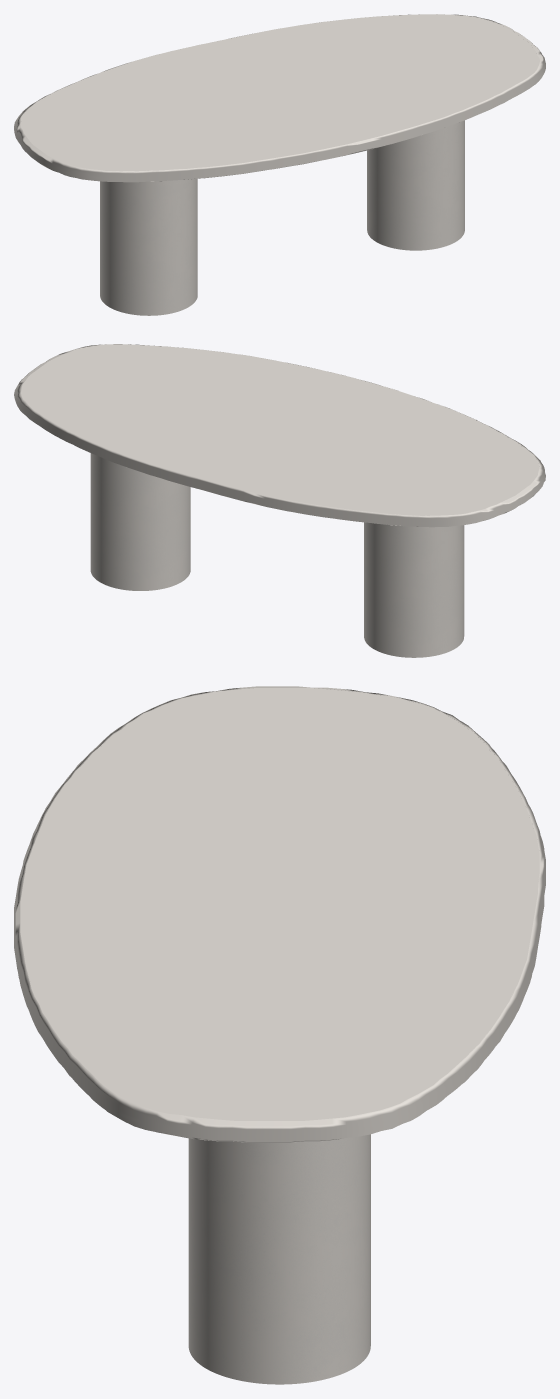
File: pearlwhite_danish_round_stream.glb
3 views of the same model, one above another, from view 1: azimuth 30°, elevation 25°; view 2: azimuth 150°, elevation 25°; view 3: azimuth 270°, elevation 25° (orthographic). The views are drawn at different scales.
Parts seen in each view (by area): view 1: round_danish, stream; view 2: round_danish, stream; view 3: round_danish, stream.
Boxes of the visible parts, bbox=[...] form: round_danish: bbox=[14, 14, 545, 182]; stream: bbox=[100, 120, 464, 315]; round_danish: bbox=[14, 344, 545, 527]; stream: bbox=[90, 453, 464, 657]; round_danish: bbox=[14, 686, 545, 1142]; stream: bbox=[188, 1134, 370, 1384].
Size of the model in its own units: 7.5 by 2.5 by 3.8.
1 material, 1 textured.
